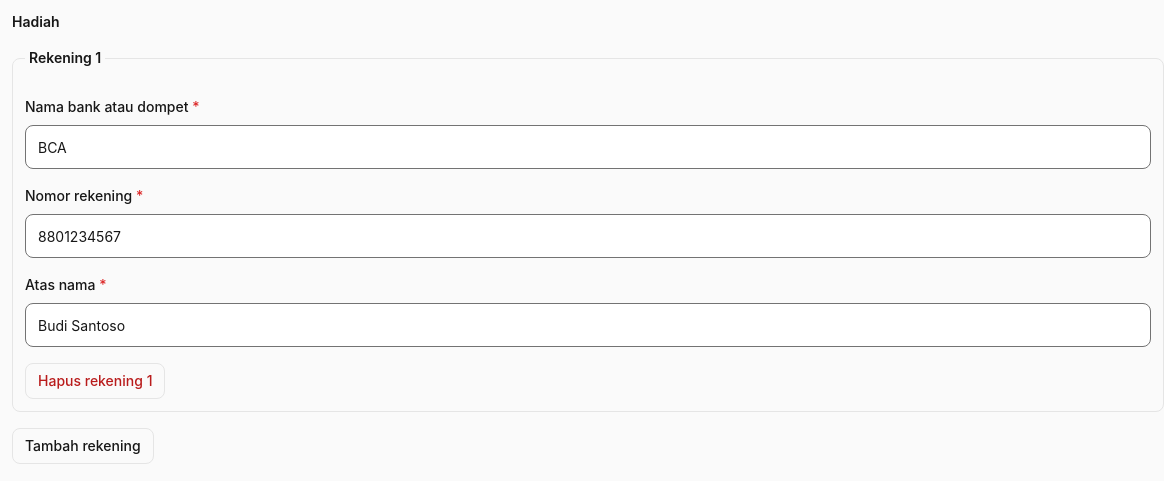
Test: the panel edits collections row by row › deletes a row on the server, then removes it
The image size is (1164, 481).
Click the button "Hapus rekening 1" at (95, 381), box [25, 363, 165, 399]
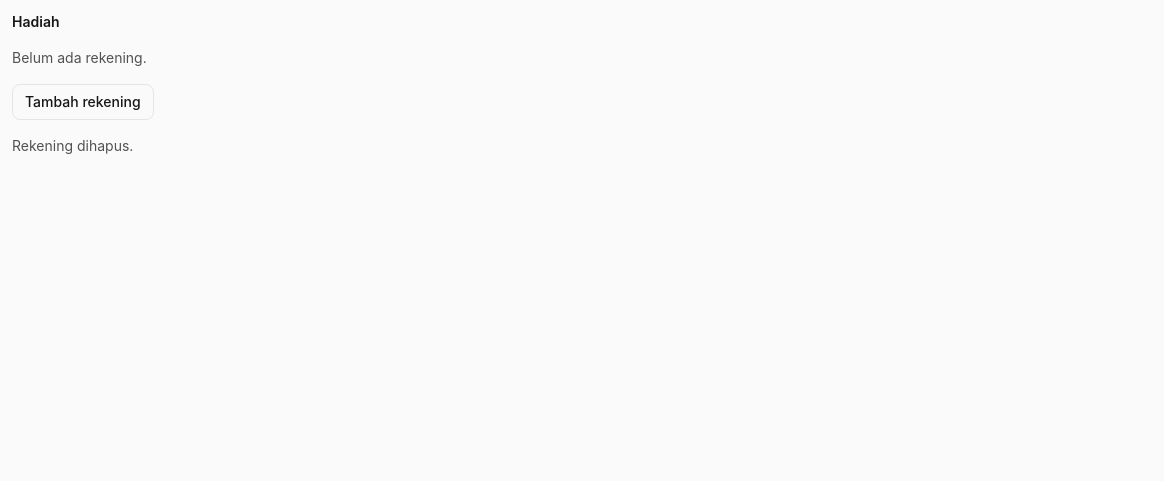
Result: the text "Rekening 1" is gone
